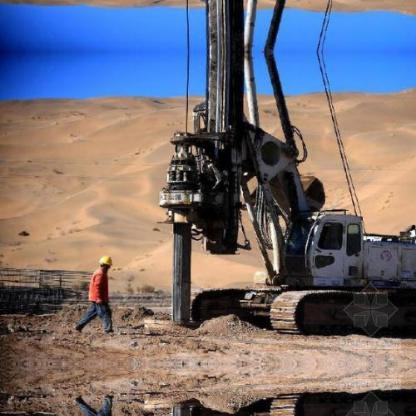Safety Helmet: (98, 251, 123, 279)
